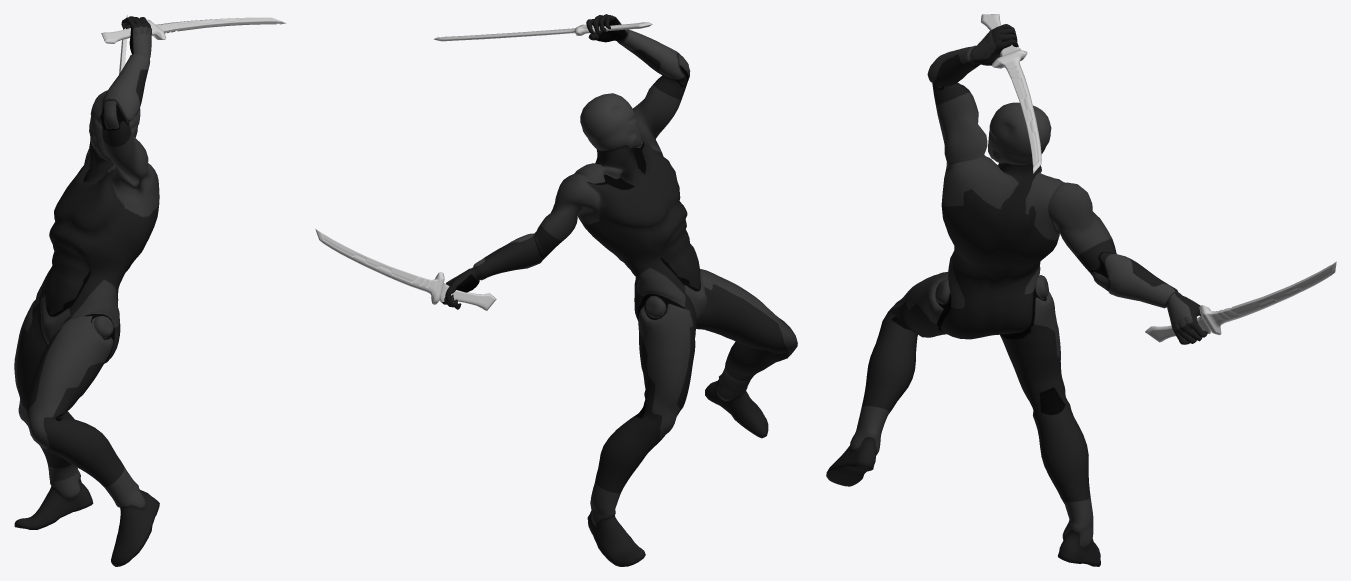
3 views of the same model, side by side, from view 1: azimuth 30°, elevation 25°; view 2: azimuth 150°, elevation 25°; view 3: azimuth 270°, elevation 25° (orthographic). The views are drawn at different scales.
Parts seen in each view (by area): view 1: Cyborg_Ninja_Killer, Sword_l; view 2: Cyborg_Ninja_Killer, Sword_l001, Sword_l; view 3: Cyborg_Ninja_Killer, Sword_l001, Sword_l.
Part boxes in pixels (<box>): Cyborg_Ninja_Killer: <box>14,16,159,566</box>; Sword_l: <box>101,17,285,43</box>; Cyborg_Ninja_Killer: <box>442,14,797,566</box>; Sword_l001: <box>315,228,496,310</box>; Sword_l: <box>433,22,652,41</box>; Cyborg_Ninja_Killer: <box>826,24,1207,566</box>; Sword_l001: <box>1145,261,1336,342</box>; Sword_l: <box>981,14,1041,173</box>.
Size of the model in its own units: 132 by 211 by 171.
